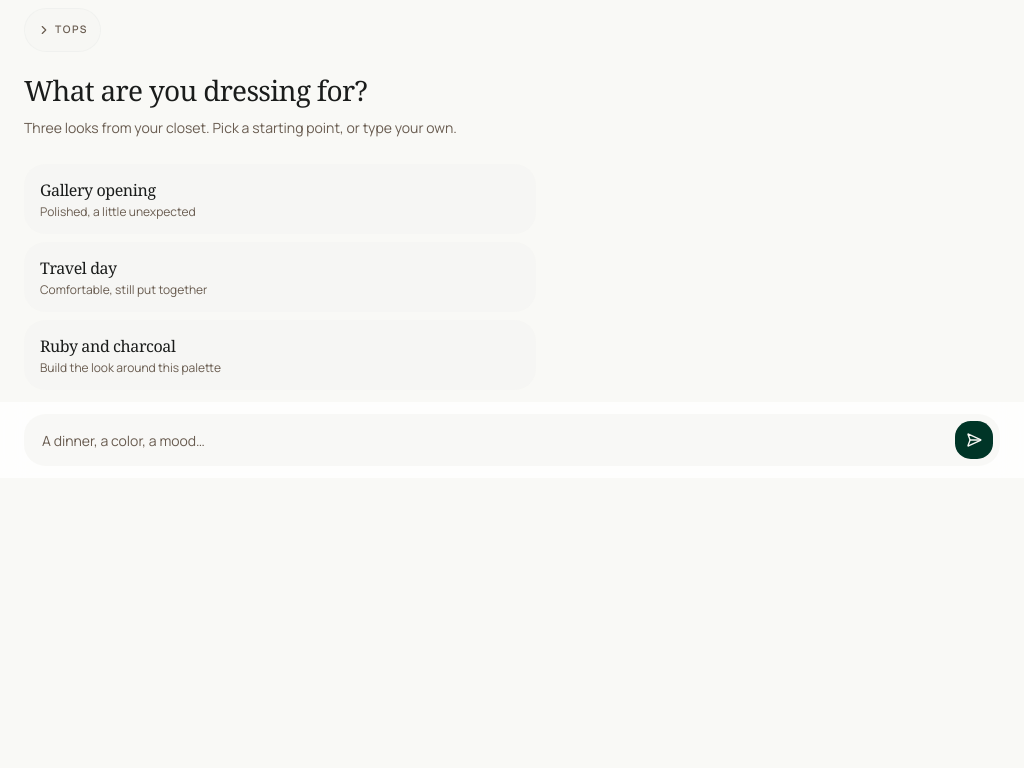
Test case: GeneratorView › POSTs /api/generate-lookbook when sending a prompt
In the field named "outfit request": (490, 440) x1=30 y1=420 x2=950 y2=460, type "Brunch look"
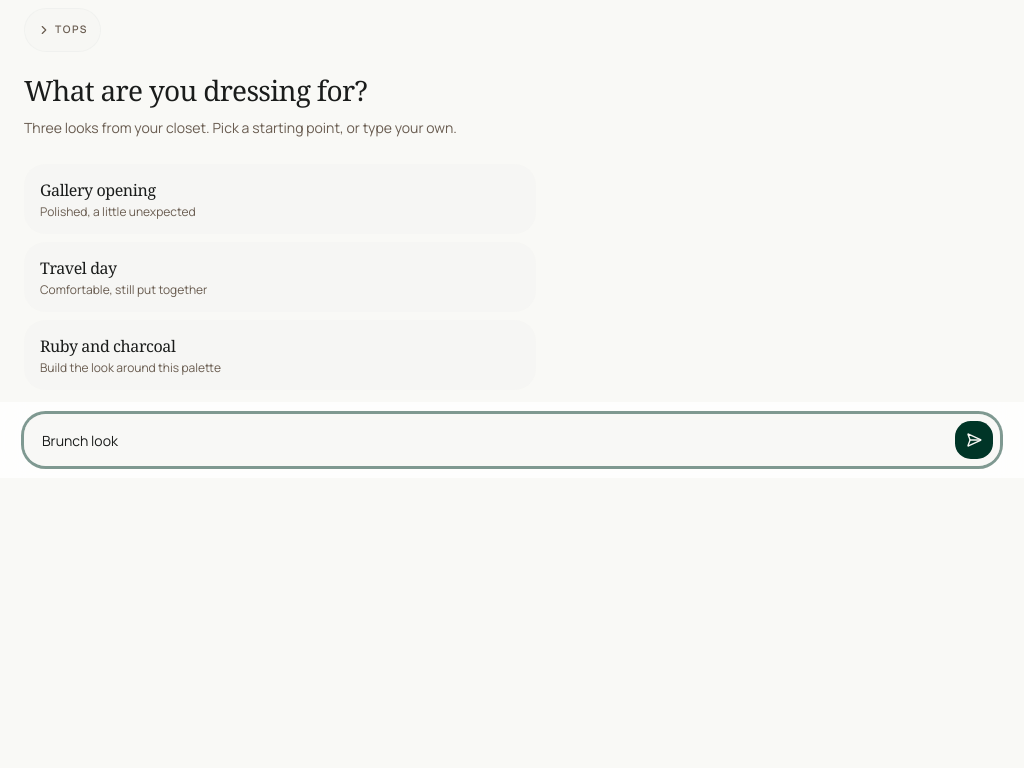
Click the button named "send": (974, 440) x1=954 y1=420 x2=994 y2=460
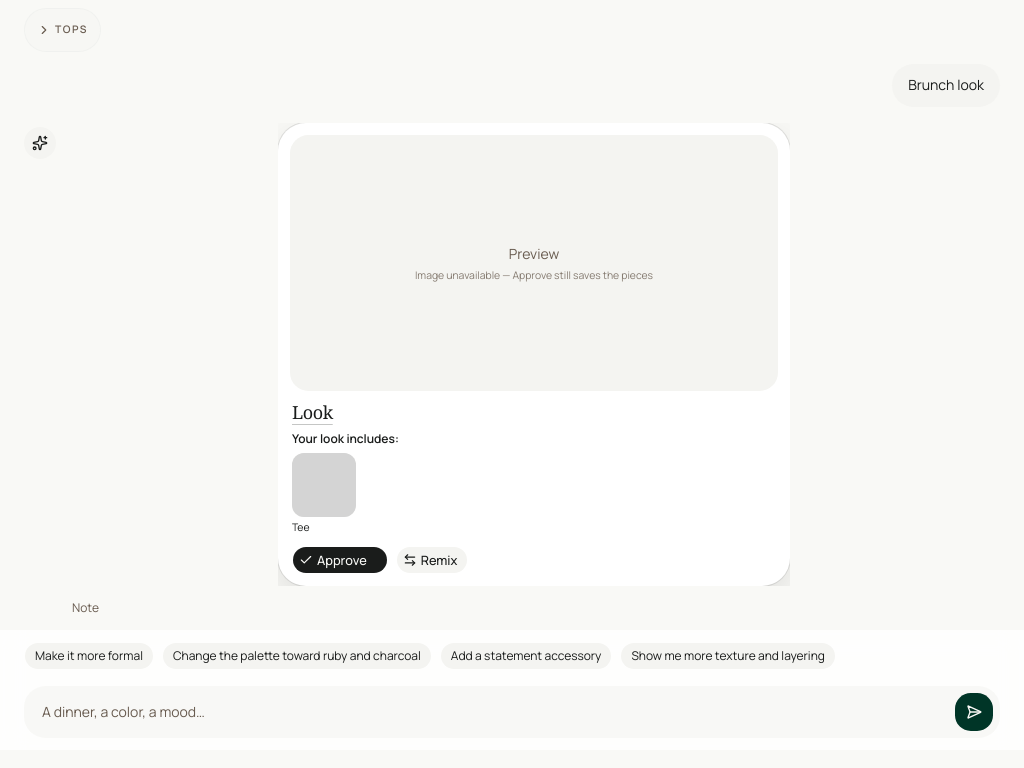
Expected: the heading "Look" is shown, x1=292 y1=400 x2=333 y2=424
Expected: the text "Your look includes:" is shown, x1=292 y1=430 x2=399 y2=447
Expected: the text "Tee" is shown, x1=292 y1=520 x2=310 y2=534
